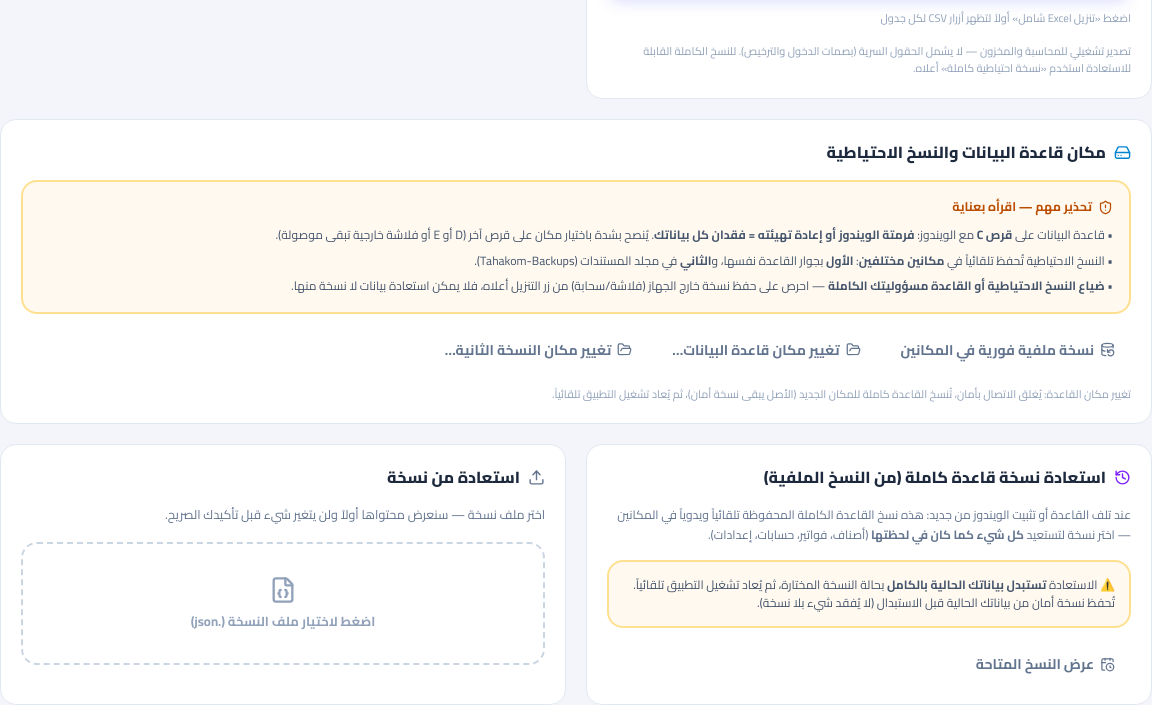
Test: درع البيانات — استعادة نسخة قاعدة ملفية (v1.0.9) › لا نسخ؟ رسالة إرشادية بدل قائمة فارغة
This screenshot has width=1152, height=705.
(page scrolled)
Click the button "عرض النسخ المتاحة".
click(1045, 664)  # box [960,644,1131,684]
(page scrolled)
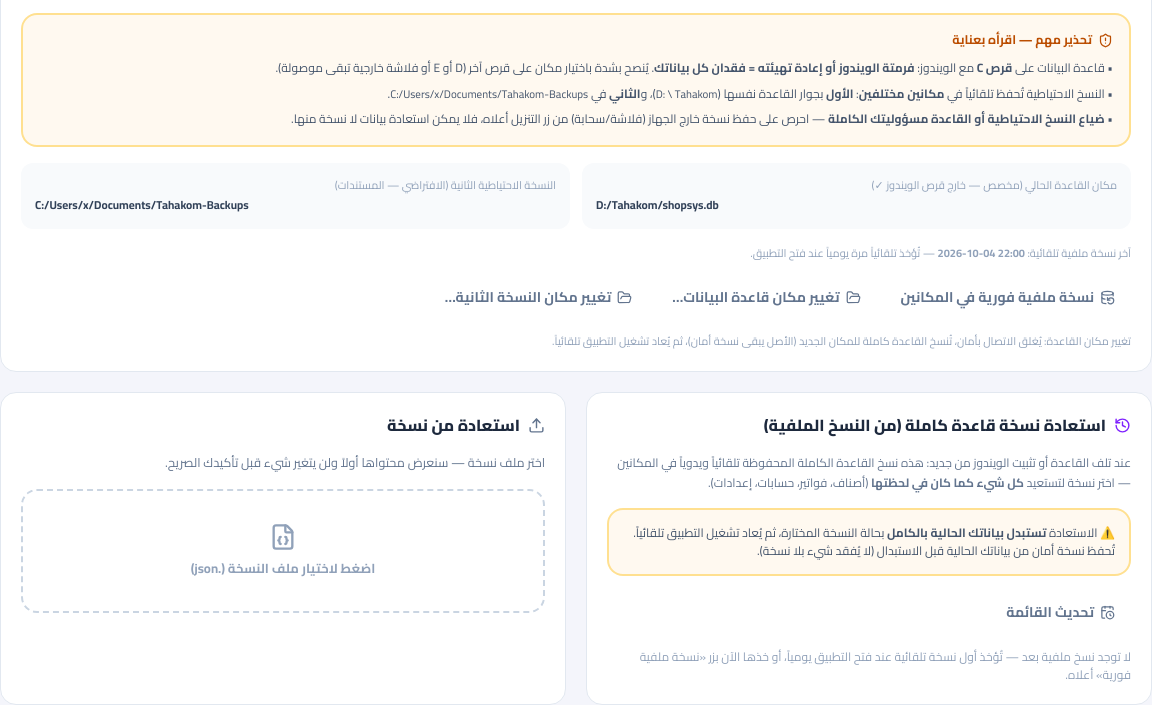
expect the text "لا توجد نسخ ملفية بعد" is shown: met, box [640,645,1131,686]
